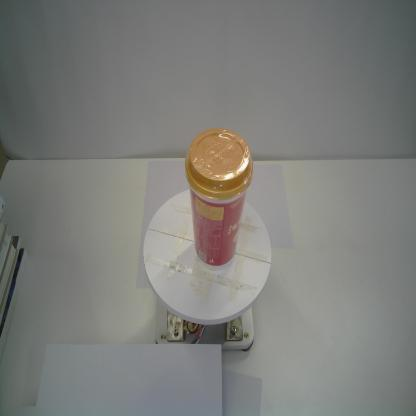Instant Drink: (184, 128, 254, 272)
